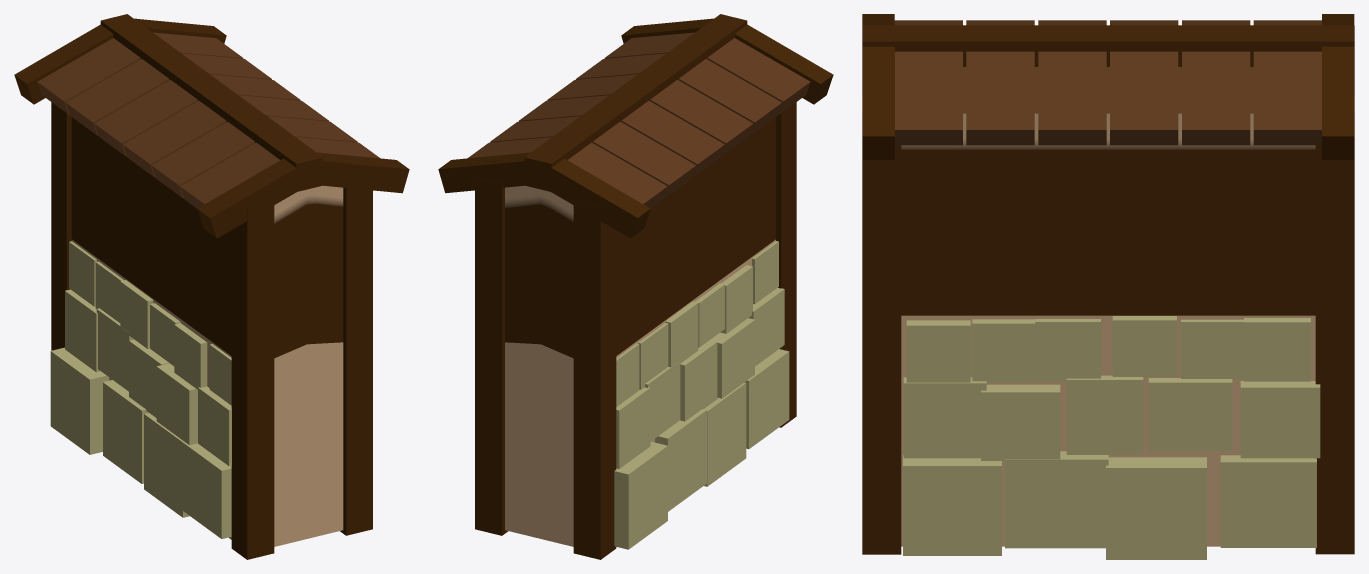
Rendered from Wall.fbx.
3 views of the same model, side by side, from view 1: azimuth 30°, elevation 25°; view 2: azimuth 150°, elevation 25°; view 3: azimuth 270°, elevation 25° (orthographic). The views are drawn at different scales.
Parts seen in each view (by area): view 1: Wall; view 2: Wall; view 3: Wall.
Boxes of the visible parts, <box> form: Wall: <box>14,14,409,559</box>; Wall: <box>438,14,833,559</box>; Wall: <box>862,14,1354,559</box>.
Bounding box in the file's own units: 242 × 446 × 412.
